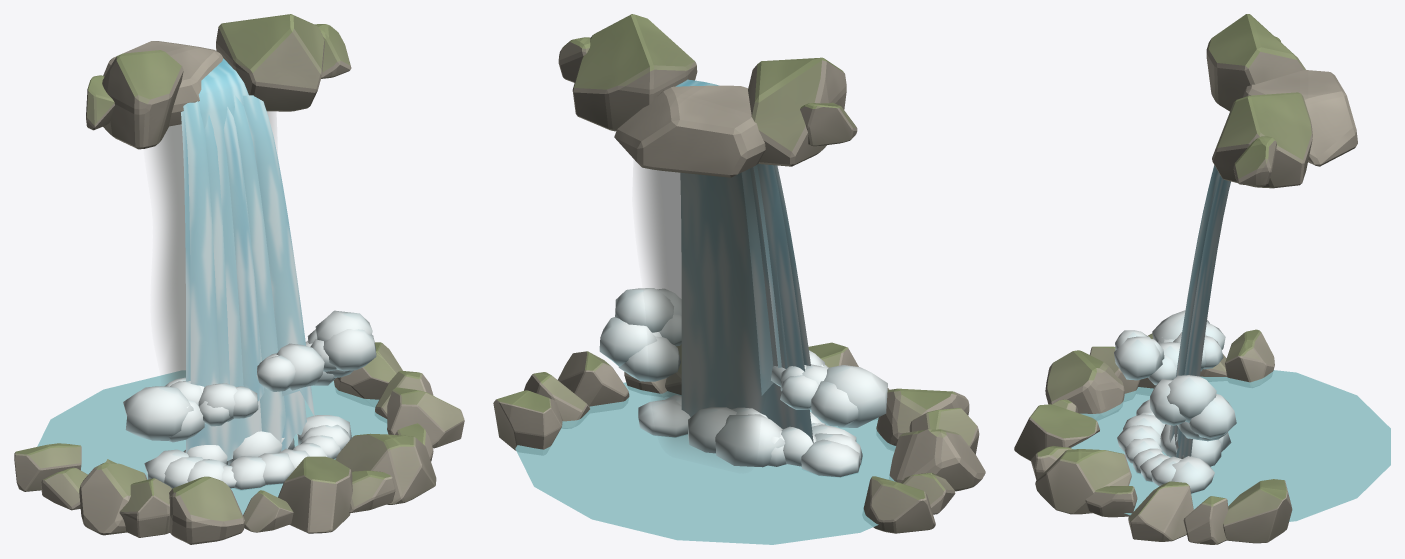
Rendered from fall_medium.glb.
The picture shows the model from 3 angles, left to right: view 1: azimuth 30°, elevation 25°; view 2: azimuth 150°, elevation 25°; view 3: azimuth 270°, elevation 25°; orthographic projection. The views are drawn at different scales.
Parts seen in each view (by area): view 1: fall_medium_sheet, fall_medium_rim, fall_medium_lip, fall_medium_mist, fall_medium_pool, fall_medium_foam, fall_medium_wet; view 2: fall_medium_pool, fall_medium_wet, fall_medium_lip, fall_medium_sheet, fall_medium_rim, fall_medium_mist, fall_medium_foam; view 3: fall_medium_rim, fall_medium_pool, fall_medium_lip, fall_medium_mist, fall_medium_sheet, fall_medium_foam.
Part boxes in pixels (x1,y1,x2,y2): fall_medium_sheet: (181, 58, 314, 460); fall_medium_rim: (14, 342, 464, 544); fall_medium_lip: (86, 14, 351, 149); fall_medium_mist: (123, 310, 376, 442); fall_medium_pool: (37, 370, 388, 514); fall_medium_foam: (144, 415, 351, 489); fall_medium_wet: (151, 111, 274, 382); fall_medium_pool: (515, 382, 895, 544); fall_medium_wet: (636, 163, 771, 456); fall_medium_lip: (558, 14, 857, 177); fall_medium_sheet: (675, 79, 813, 443); fall_medium_rim: (493, 342, 985, 533); fall_medium_mist: (599, 288, 887, 427); fall_medium_foam: (638, 395, 862, 477); fall_medium_rim: (1014, 329, 1292, 544); fall_medium_pool: (1071, 370, 1390, 521); fall_medium_lip: (1206, 14, 1357, 188); fall_medium_mist: (1114, 310, 1236, 441); fall_medium_sheet: (1169, 165, 1230, 458); fall_medium_foam: (1117, 399, 1231, 493).
Bounding box in the file's own units: 9.34 × 9.33 × 7.97.
Materials: 6 (5 with a texture image).
